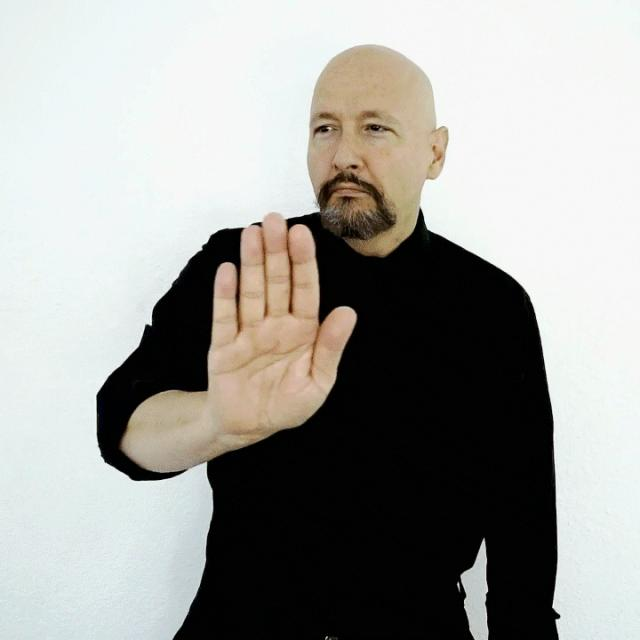your: (208, 212, 358, 433)
